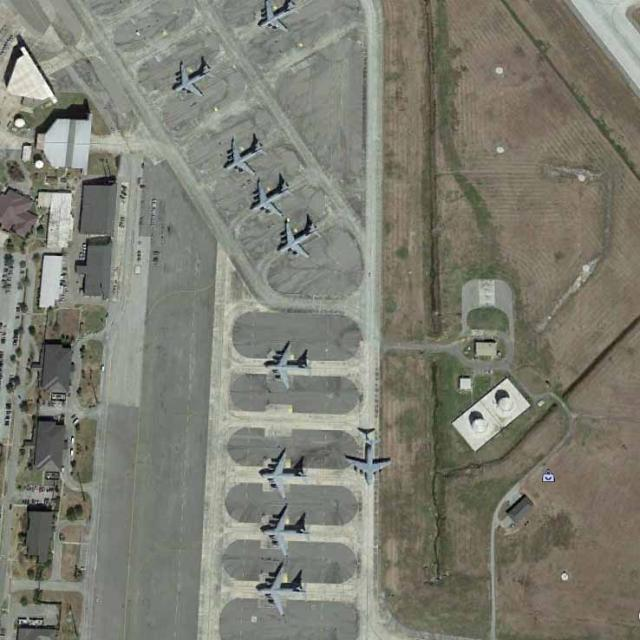fighter jet: (348, 428, 390, 486), (269, 342, 314, 388), (259, 512, 309, 552), (219, 132, 264, 176), (259, 566, 301, 612), (262, 449, 302, 495), (281, 223, 319, 261), (258, 1, 298, 35), (170, 64, 211, 96), (249, 182, 291, 212)
